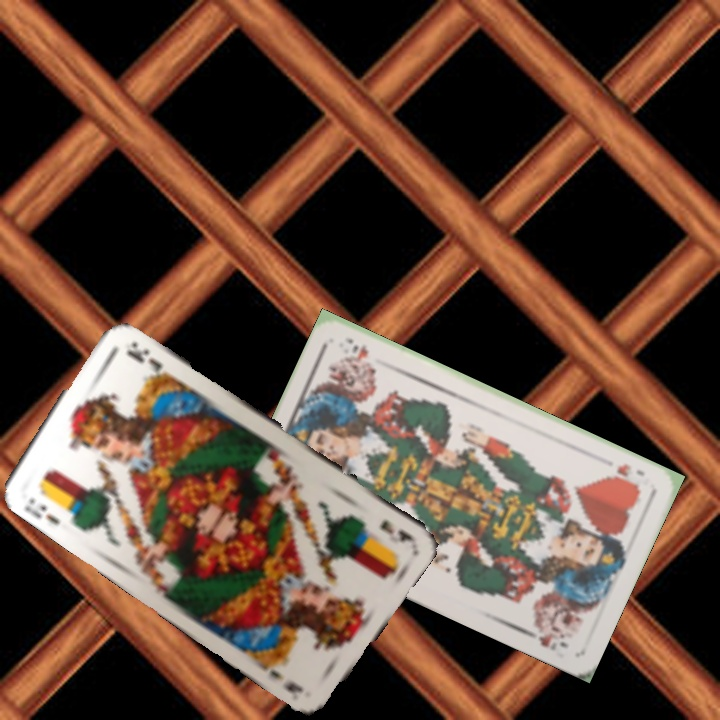EK: (22, 493, 63, 528), (376, 515, 415, 545)
HO: (608, 459, 648, 493)
